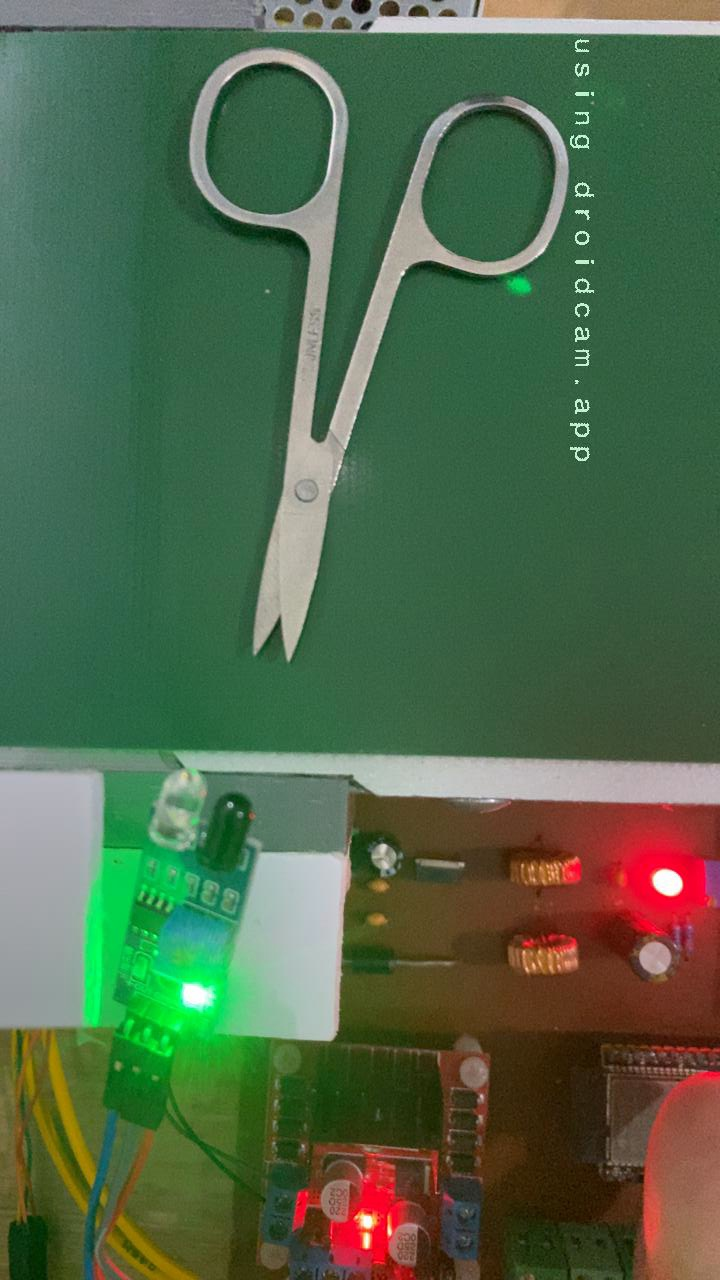scissor: (182, 41, 577, 665)
